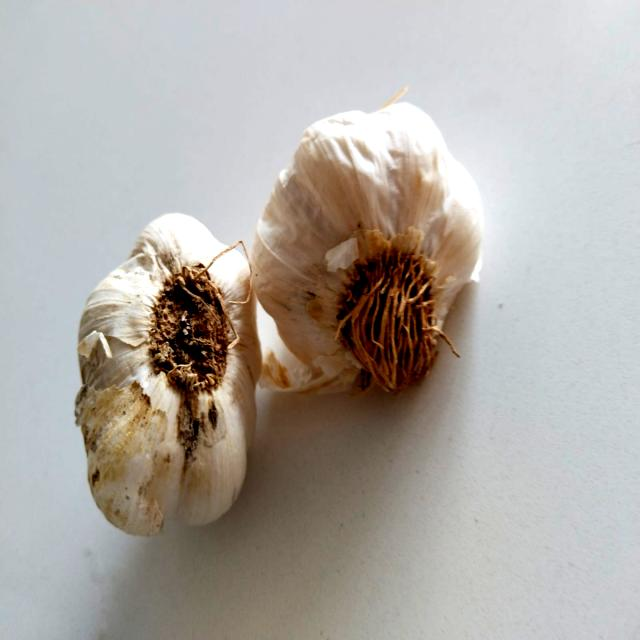garlic: (247, 88, 492, 404), (70, 187, 269, 532)
